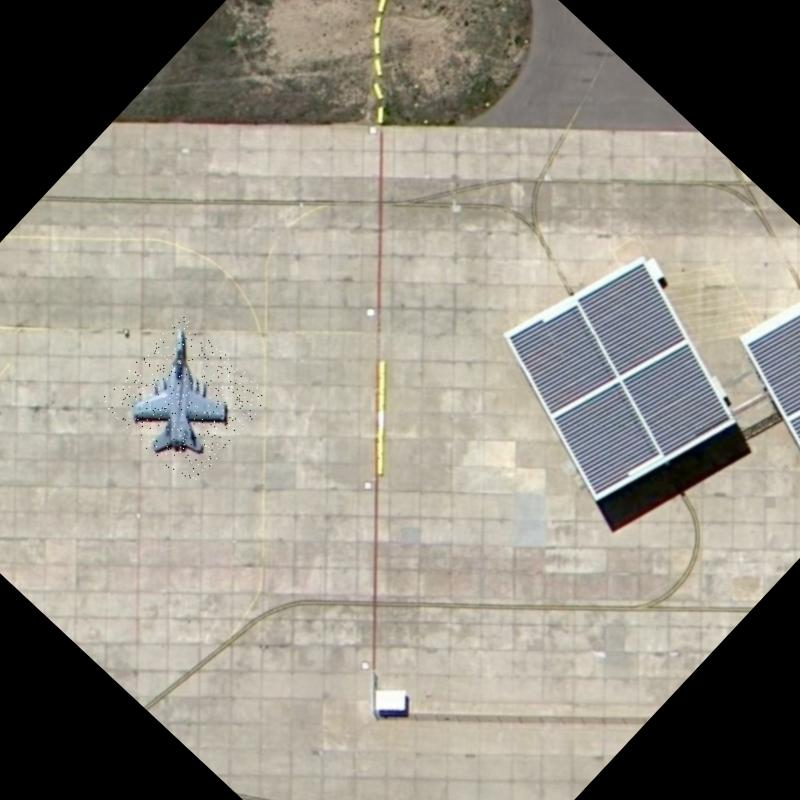A16: (98, 313, 274, 489)
